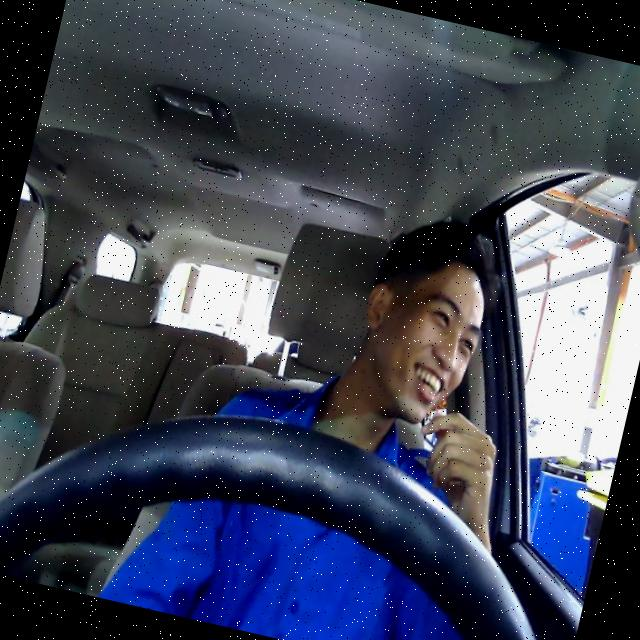focused: (340, 238, 497, 434)
